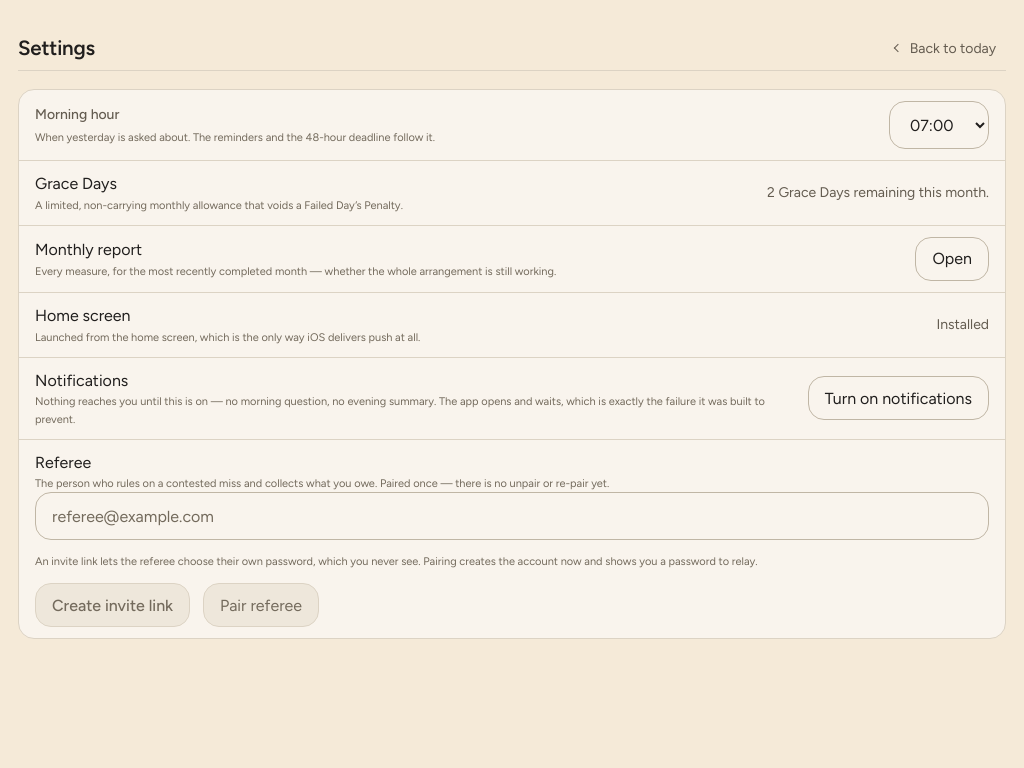
Scenario: the settings surface › mints an invite link, shows it once, and never renders it as a clickable anchor
The image size is (1024, 768).
Expected: the dropdown labelled "Morning hour" is shown, [889, 101, 989, 149]
Expected: the button "Create invite link" is disabled, [35, 584, 190, 628]
In the field with placeholder "referee@example.com": (512, 516) [35, 492, 989, 540], type "ref@example.com"
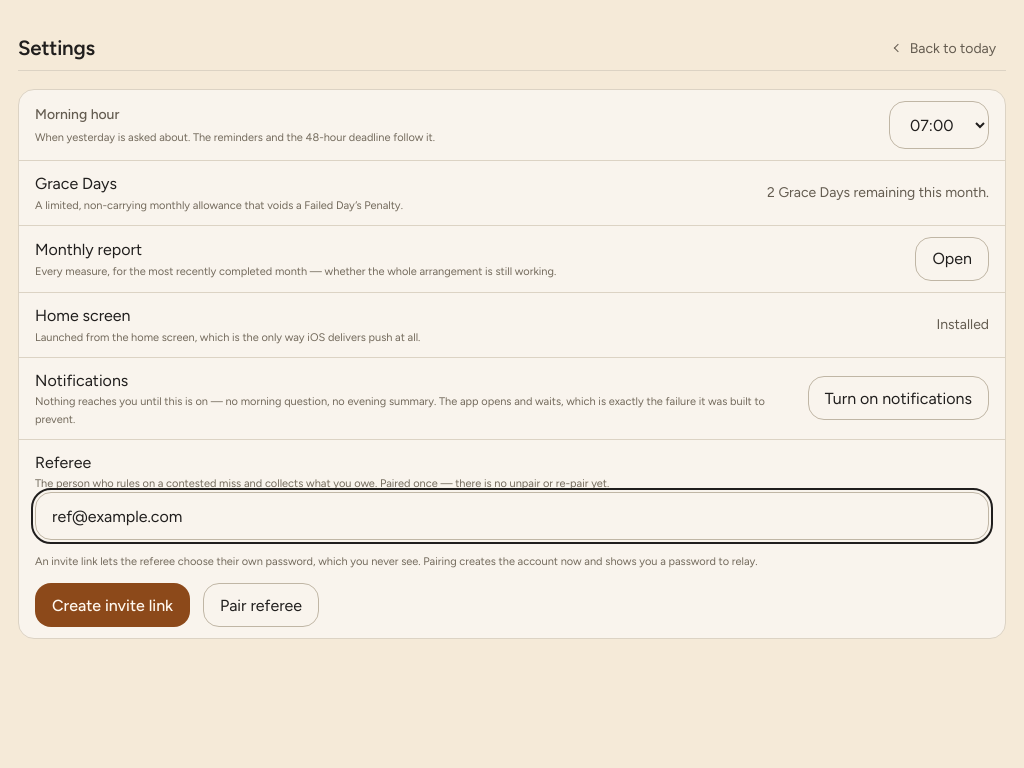
Click the button "Create invite link": (113, 606) [35, 584, 190, 628]
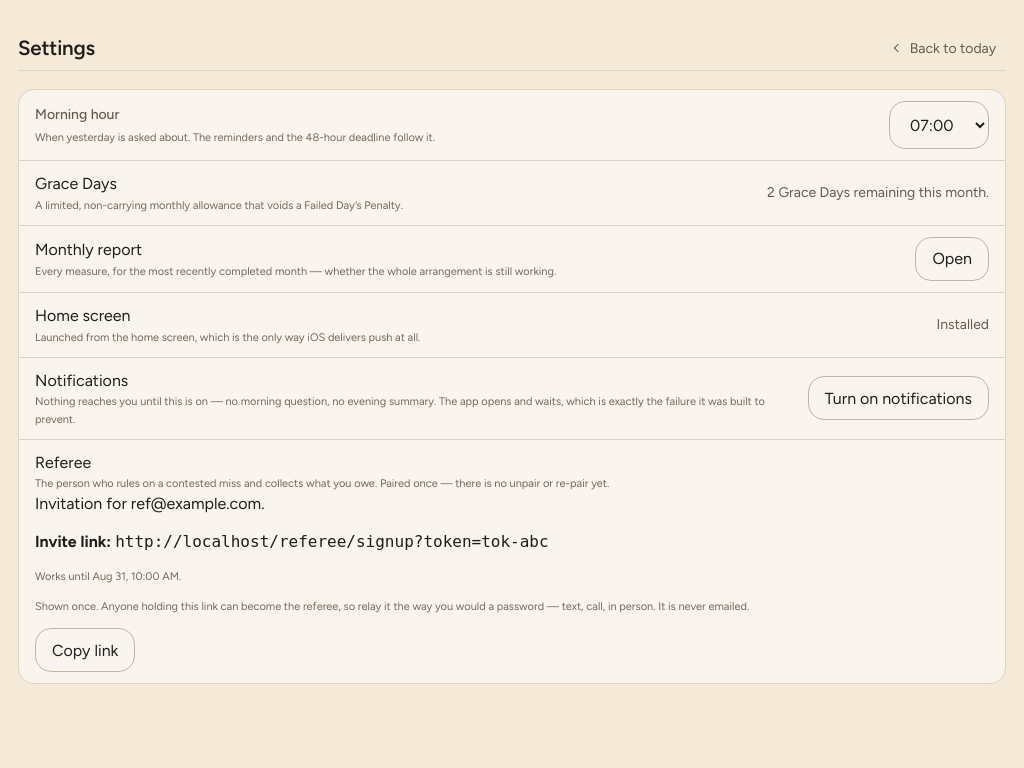
Expected: the field with placeholder "referee@example.com" is not shown
Expected: the text "Invitation for ref@example.com." is shown, [35, 494, 264, 513]
Expected: the text "never emailed" is shown, [35, 600, 749, 613]
